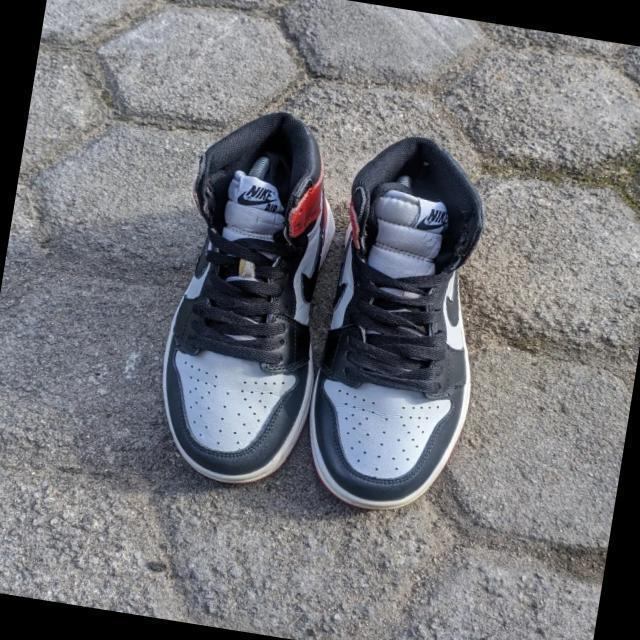nike fake jordan 1: (294, 125, 515, 522), (140, 101, 354, 495)
